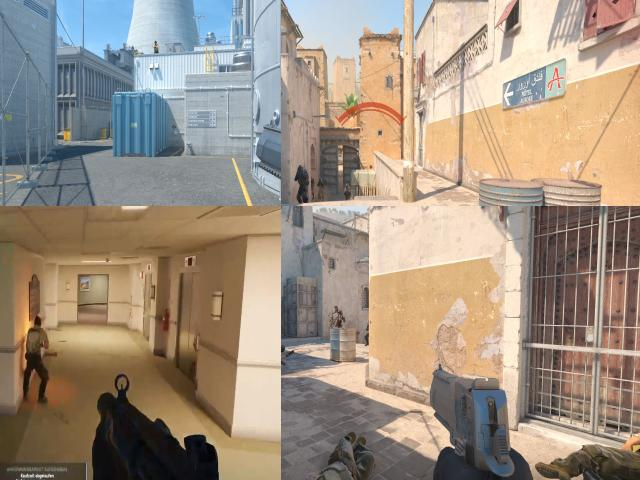CT: (297, 165, 308, 202), (318, 178, 324, 200), (365, 320, 369, 346), (344, 184, 350, 200), (311, 176, 314, 198)
CT-Head: (298, 165, 304, 173), (346, 183, 349, 189), (318, 178, 322, 182)
Dead: (302, 427, 386, 480), (557, 430, 640, 480), (281, 344, 294, 361)
T: (24, 315, 45, 369), (154, 41, 158, 53)
T-Head: (31, 314, 45, 332), (155, 40, 157, 44)
